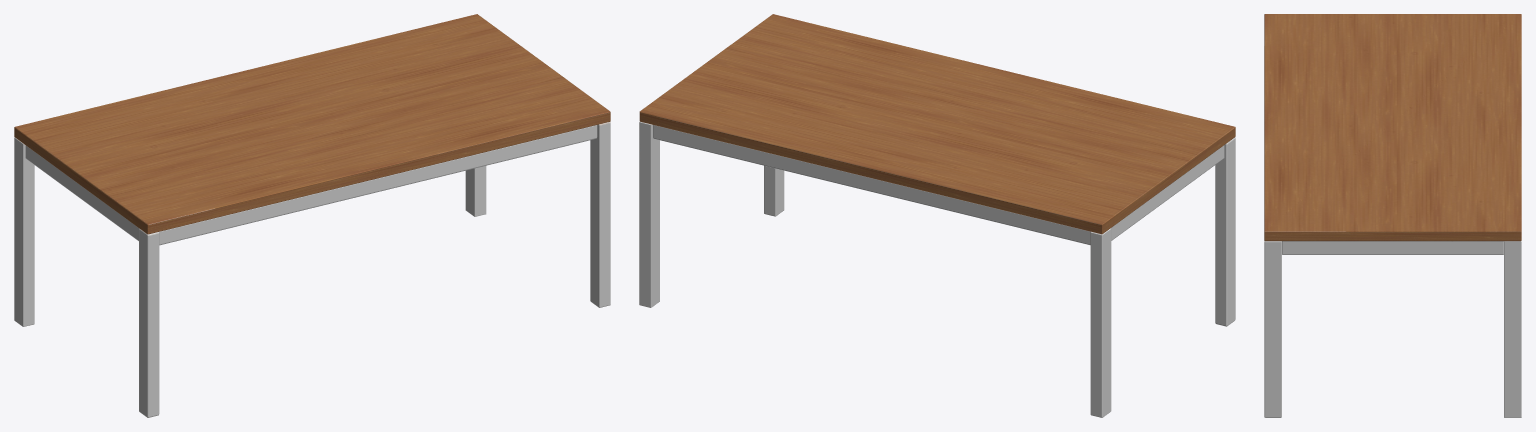
File: desk.glb
3 renders of one model, left to right at view 1: azimuth 30°, elevation 25°; view 2: azimuth 150°, elevation 25°; view 3: azimuth 270°, elevation 25°, orthographic. The views are drawn at different scales.
Parts seen in each view (by area): view 1: OfficeTable; view 2: OfficeTable; view 3: OfficeTable.
Part boxes in pixels (bbox=[...]): OfficeTable: bbox=[14, 14, 610, 417]; OfficeTable: bbox=[639, 14, 1235, 417]; OfficeTable: bbox=[1264, 14, 1521, 417].
Size of the model in its own units: 2 by 0.8 by 1.
1 material, 1 textured.
